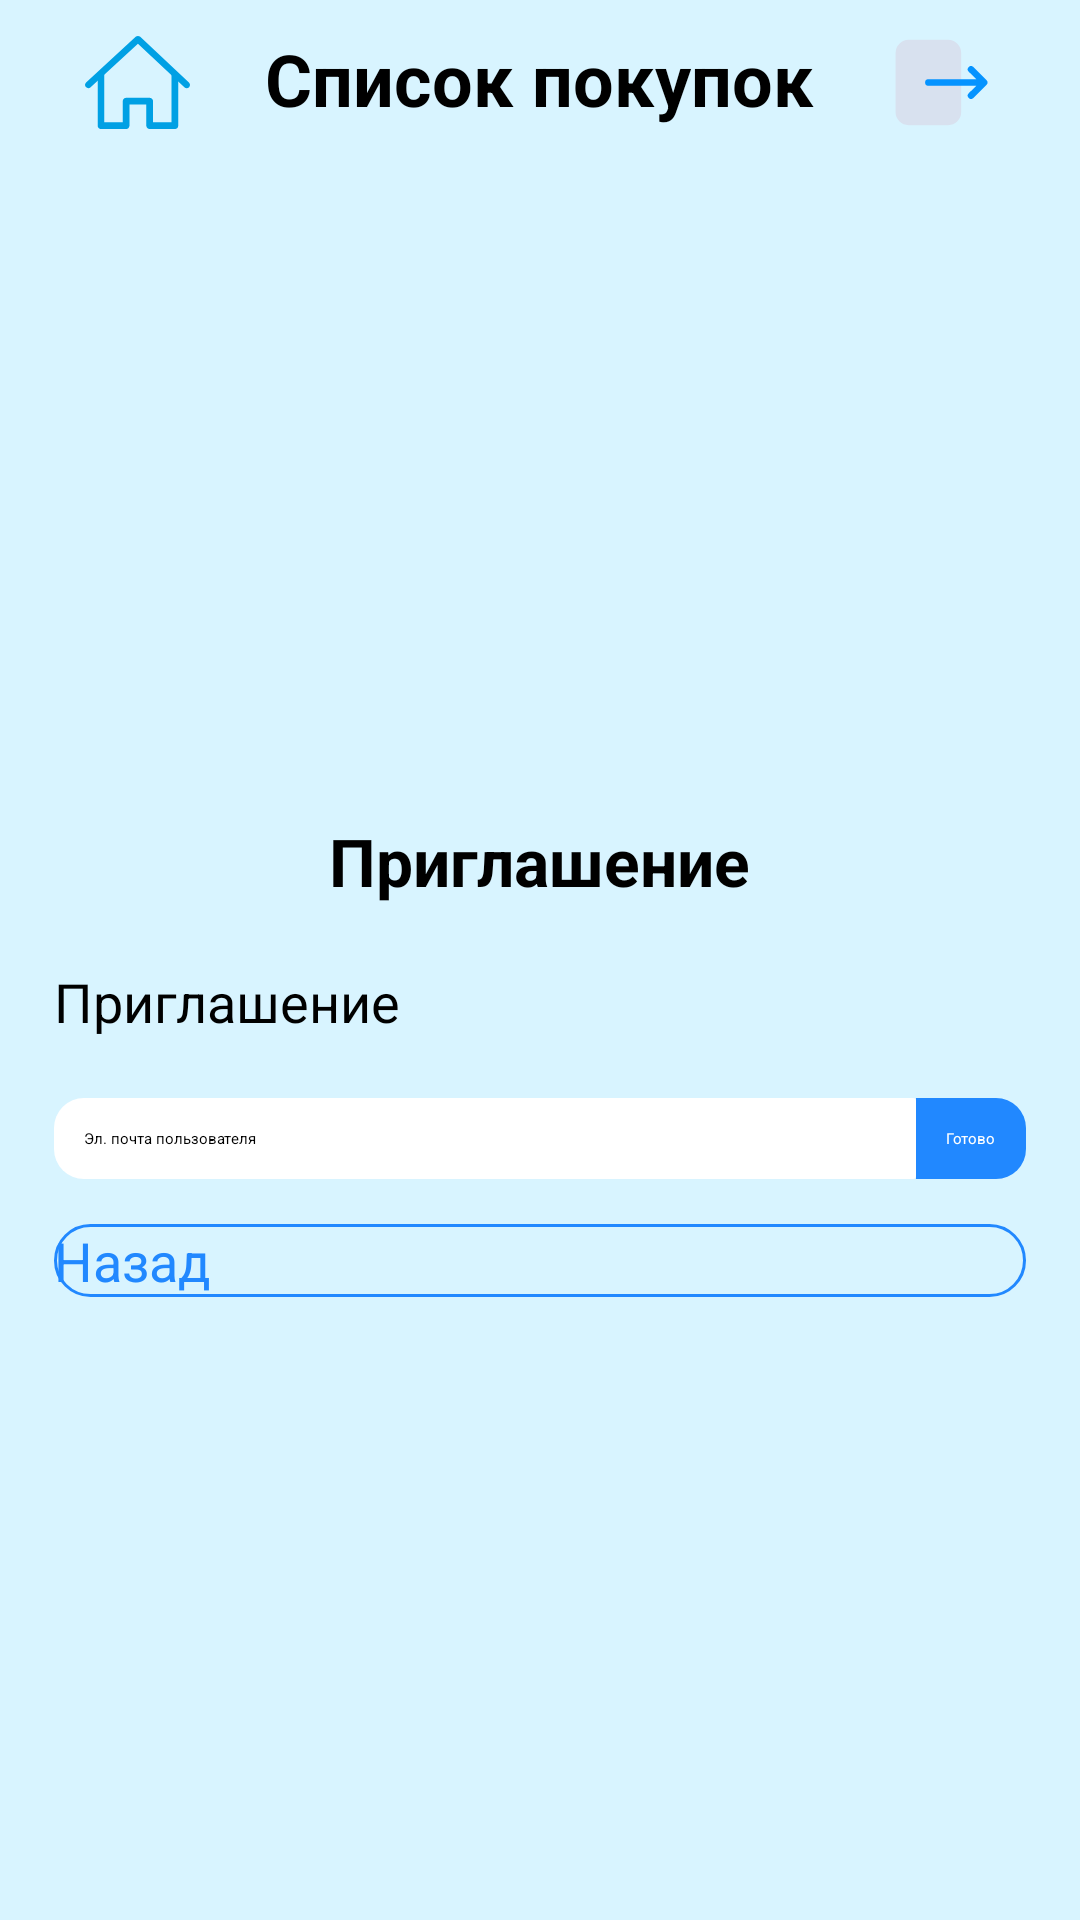

Named icons in this screenshot (1080px×1920px) and their centers, [x,y]:
exit: [942,82]
home: [137,82]
